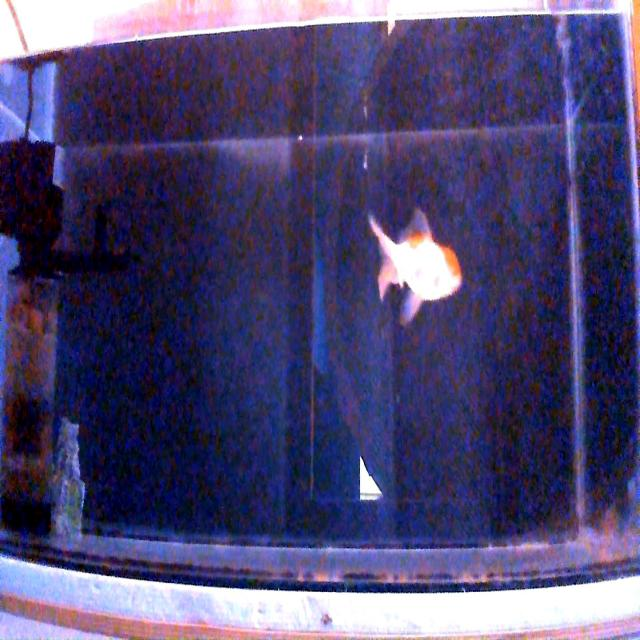fish: (368, 210, 462, 324)
